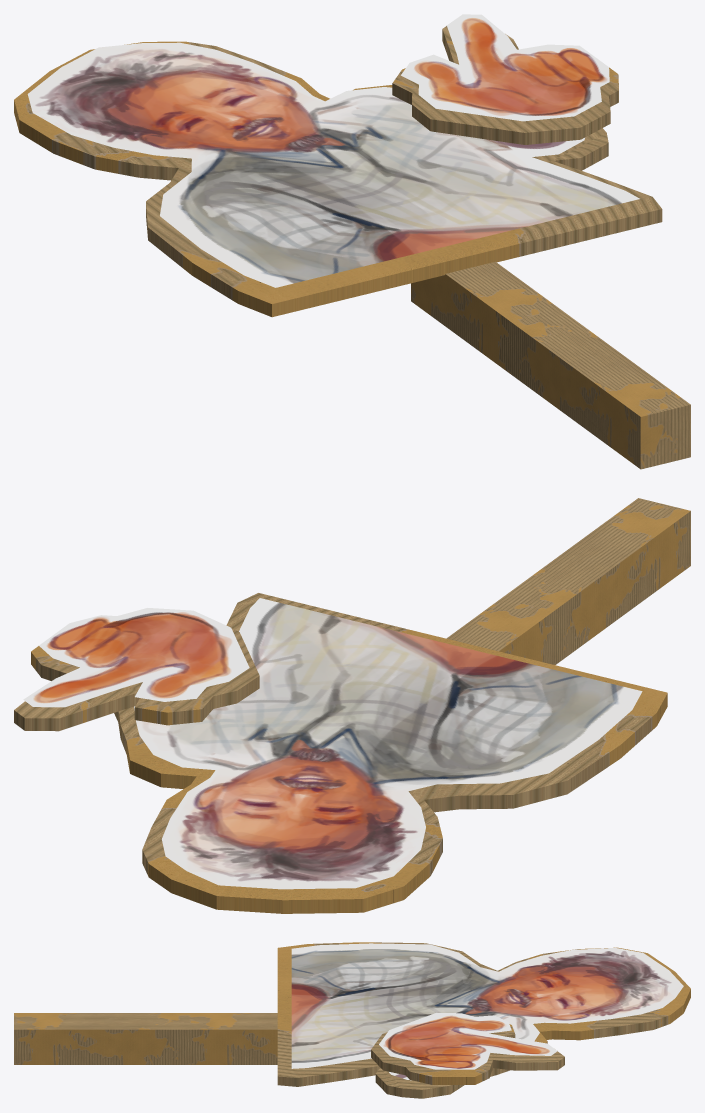
The model's file is Gramp1.fbx.
3 views of the same model, one above another, from view 1: azimuth 30°, elevation 25°; view 2: azimuth 150°, elevation 25°; view 3: azimuth 270°, elevation 25° (orthographic). The views are drawn at different scales.
Visible parts, largest first — view 1: aunty1nohands.016; view 2: aunty1nohands.016; view 3: aunty1nohands.016.
Part boxes in pixels (bbox=[...]): aunty1nohands.016: bbox=[14, 14, 690, 469]; aunty1nohands.016: bbox=[14, 498, 690, 913]; aunty1nohands.016: bbox=[14, 942, 690, 1098].
Bounding box in the file's own units: 84.07 × 17.72 × 153.
Materials: 3 (3 with a texture image).
